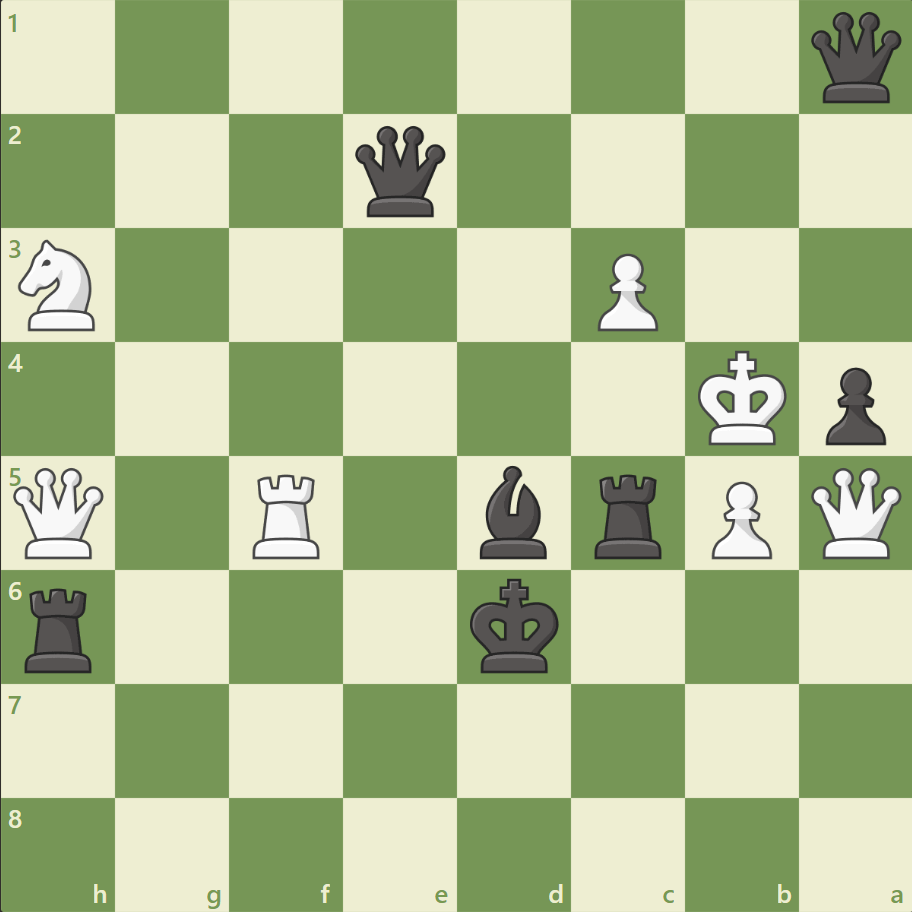K: (692, 344, 792, 452)
N: (11, 234, 108, 337)
P: (701, 473, 776, 564), (588, 246, 662, 337)
Q: (805, 463, 904, 562), (10, 463, 109, 562)
R: (246, 466, 329, 563)
b: (471, 460, 555, 563)
k: (465, 571, 565, 679)
p: (815, 359, 889, 450)
q: (351, 122, 450, 222), (805, 9, 904, 108)
r: (19, 579, 102, 676), (587, 466, 670, 563)
